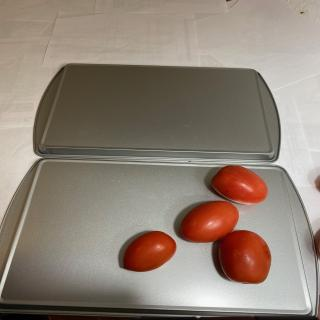Tomato: (218, 230, 272, 284), (180, 200, 239, 243), (211, 165, 268, 205), (122, 231, 176, 272)
